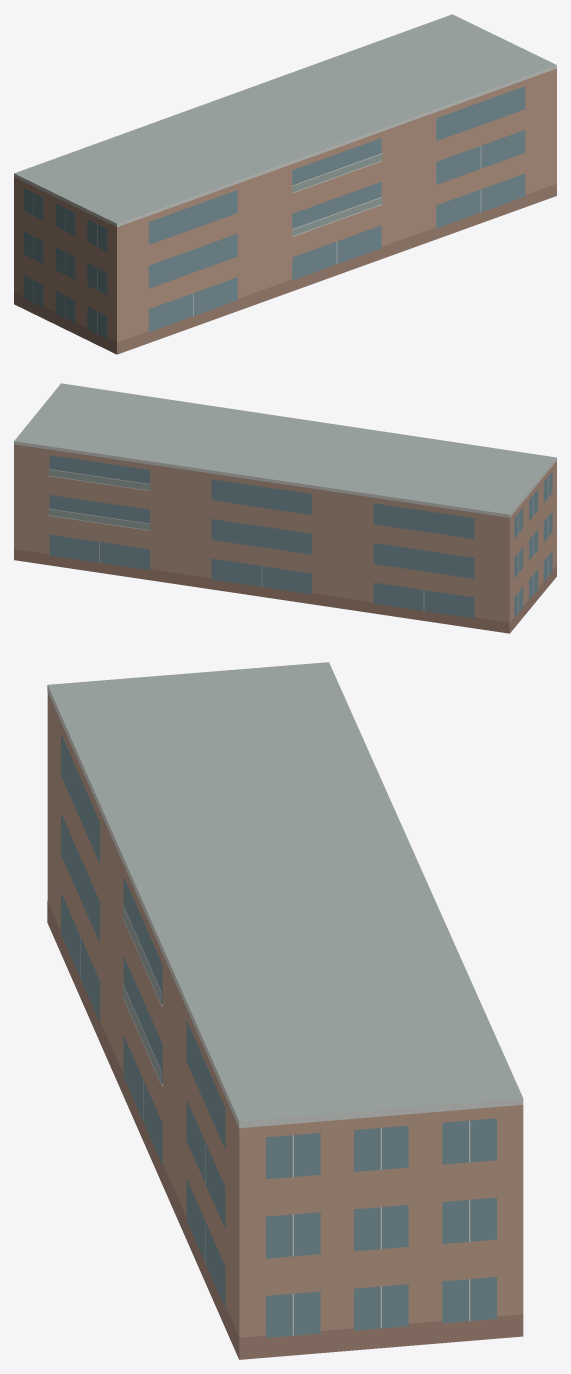
File: survey-upis-32978834.glb
The picture shows the model from 3 angles, top to bottom: view 1: azimuth 30°, elevation 25°; view 2: azimuth 150°, elevation 25°; view 3: azimuth 270°, elevation 25°; orthographic projection. The views are drawn at different scales.
Parts seen in each view (by area): view 1: survey-upis-32978834.tmp; view 2: survey-upis-32978834.tmp; view 3: survey-upis-32978834.tmp.
Part boxes in pixels (x1=…): survey-upis-32978834.tmp: x1=14, y1=14, x2=556, y2=354; survey-upis-32978834.tmp: x1=14, y1=383, x2=556, y2=633; survey-upis-32978834.tmp: x1=47, y1=662, x2=523, y2=1359.
Bounding box in the file's own units: 37.93 × 9.15 × 16.6.
